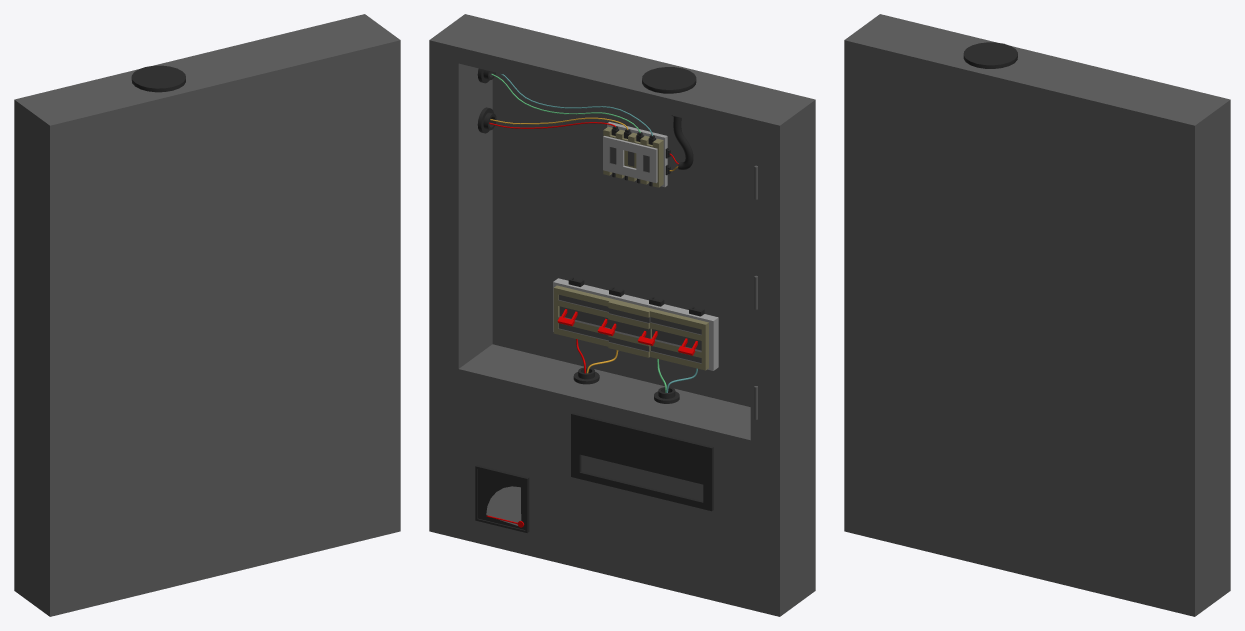
Rendered from NewElectricalBox.fbx.
3 renders of one model, left to right at view 1: azimuth 30°, elevation 25°; view 2: azimuth 150°, elevation 25°; view 3: azimuth 330°, elevation 25°, orthographic.
Visible parts, largest first — view 1: ElectricalBox; view 2: ElectricalBox; view 3: ElectricalBox.
Part boxes in pixels (x1,y1,x2,y2): ElectricalBox: (14,14,400,616); ElectricalBox: (429,14,815,616); ElectricalBox: (844,14,1230,616).
Size of the model in its own units: 88.61 by 120 by 16.5.
